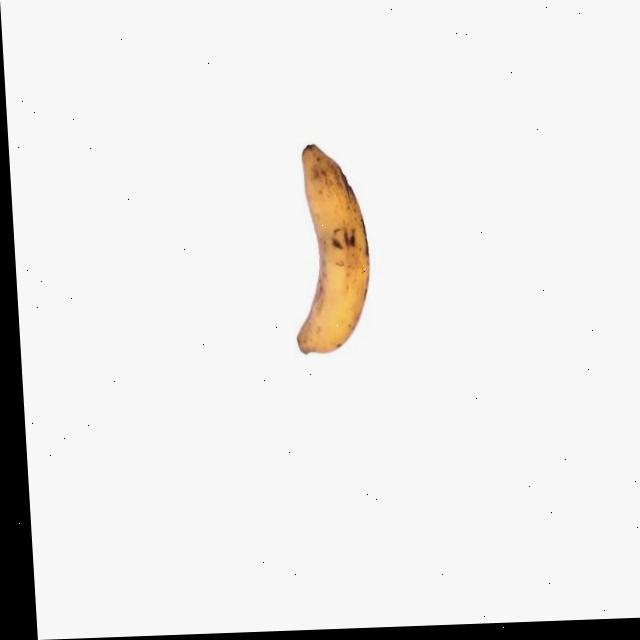banana: (283, 137, 378, 359)
